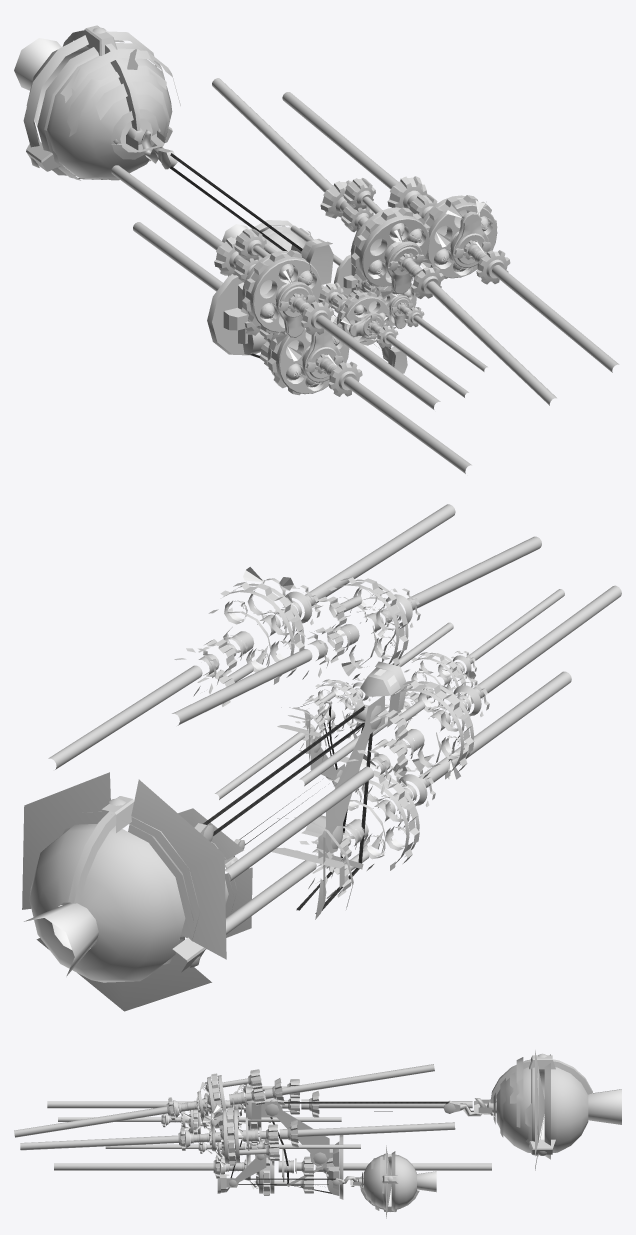
The model's file is skybox_pillar.glb.
3 renders of one model, top to bottom at view 1: azimuth 30°, elevation 25°; view 2: azimuth 150°, elevation 25°; view 3: azimuth 270°, elevation 25°, orthographic. The views are drawn at different scales.
Parts seen in each view (by area): view 1: rsrc.world.skybox.clockwork_tunnels.parts.model_pillar_nocra (×17), rsrc.world.skybox.clockwork_tunnels.parts.model_crane-MeshNo (×6), rsrc.world.skybox.clockwork_tunnels.parts.model_pillar-MeshN (×5); view 2: rsrc.world.skybox.clockwork_tunnels.parts.model_crane-MeshNo (×7), rsrc.world.skybox.clockwork_tunnels.parts.model_pillar_nocra (×9), rsrc.world.skybox.clockwork_tunnels.parts.model_pillar-MeshN (×3); view 3: rsrc.world.skybox.clockwork_tunnels.parts.model_crane-MeshNo (×8), rsrc.world.skybox.clockwork_tunnels.parts.model_pillar_nocra (×8), rsrc.world.skybox.clockwork_tunnels.parts.model_pillar-MeshN (×4).
Boxes of the visible parts, x1,y1,x2,y2 form: rsrc.world.skybox.clockwork_tunnels.parts.model_pillar_nocra (×17): (111,78,619,409); rsrc.world.skybox.clockwork_tunnels.parts.model_crane-MeshNo (×6): (14,25,407,373); rsrc.world.skybox.clockwork_tunnels.parts.model_pillar-MeshN (×5): (133,222,487,473); rsrc.world.skybox.clockwork_tunnels.parts.model_crane-MeshNo (×7): (22,661,407,1011); rsrc.world.skybox.clockwork_tunnels.parts.model_pillar_nocra (×9): (48,504,621,881); rsrc.world.skybox.clockwork_tunnels.parts.model_pillar-MeshN (×3): (183,622,571,960); rsrc.world.skybox.clockwork_tunnels.parts.model_crane-MeshNo (×8): (217,1050,621,1218); rsrc.world.skybox.clockwork_tunnels.parts.model_pillar_nocra (×8): (14,1064,472,1165); rsrc.world.skybox.clockwork_tunnels.parts.model_pillar-MeshN (×4): (54,1139,491,1195).
Bounding box in the file's own units: 11.91 × 11.04 × 38.94.
Materials: 4 (1 with a texture image).
